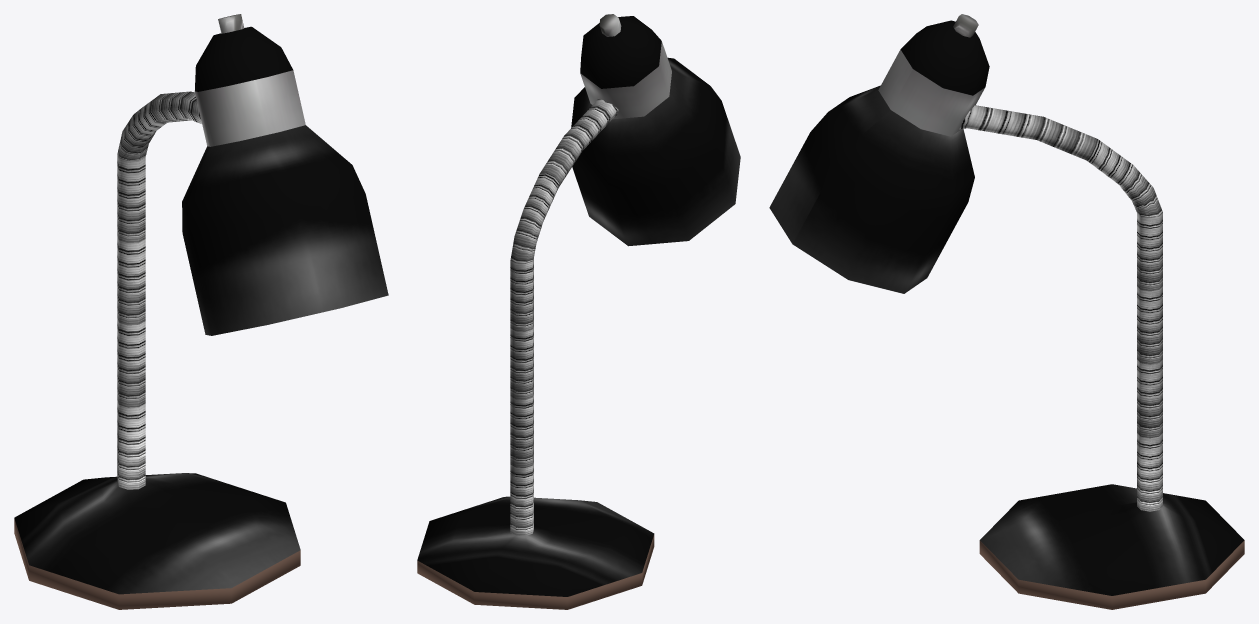
File: lamp_desk.fbx
3 renders of one model, left to right at view 1: azimuth 30°, elevation 25°; view 2: azimuth 150°, elevation 25°; view 3: azimuth 270°, elevation 25°, orthographic. The views are drawn at different scales.
Parts seen in each view (by area): view 1: lamp_desk; view 2: lamp_desk; view 3: lamp_desk.
Boxes of the visible parts, x1,y1,x2,y2 form: lamp_desk: [14, 14, 388, 609]; lamp_desk: [417, 14, 740, 609]; lamp_desk: [769, 14, 1244, 609].
Size of the model in its own units: 27.49 by 61.22 by 49.34.
Materials: 1 (1 with a texture image).
